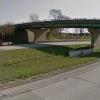Bridge: (13, 10, 98, 48)
